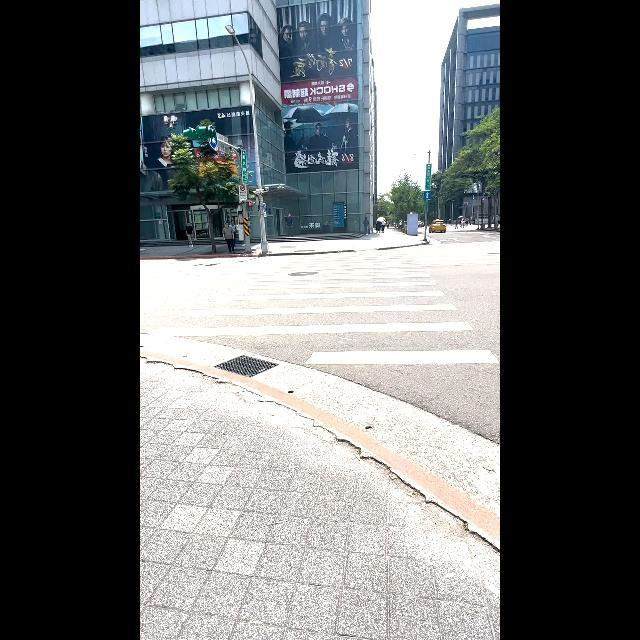sidewalk: (151, 235, 494, 558)
